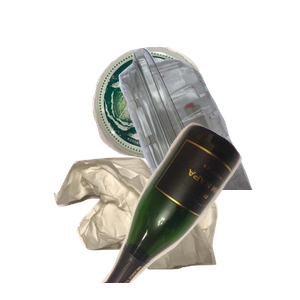glass: (87, 120, 300, 300)
metal: (90, 44, 289, 195)
plastic: (71, 45, 300, 225)
trash: (51, 155, 261, 300)
